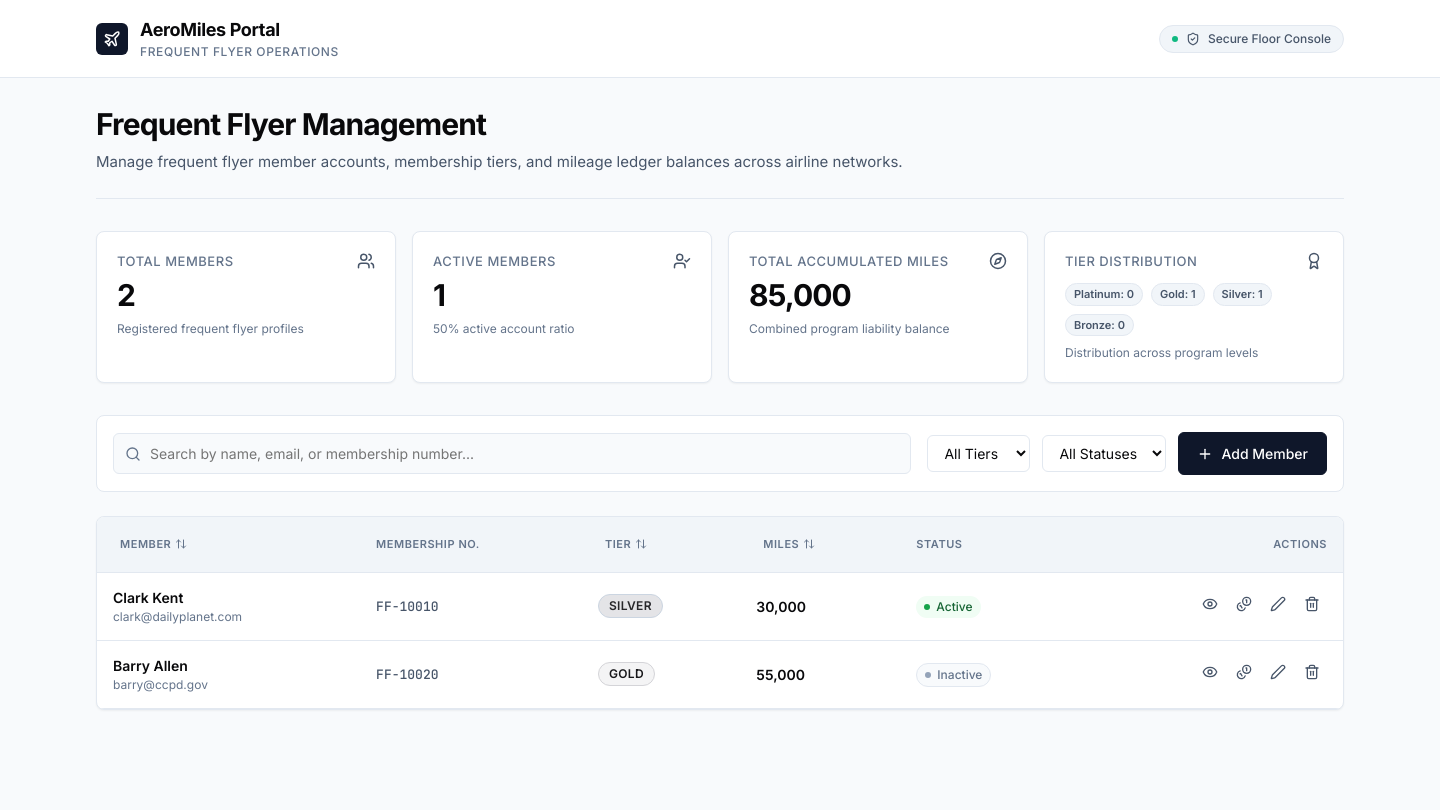
Test: Happy-Path Tests (TRD Section 9) › 7. Search and filtering filter members by query, tier, and status
Check: the text "Clark Kent" is shown, box [113, 588, 183, 606]
Check: the text "Barry Allen" is shown, box [113, 656, 188, 674]
Note: Search by name
In the search field with placeholder "Search by name, email, or membership number...": [512, 454] box [113, 433, 911, 474], type "Barry"
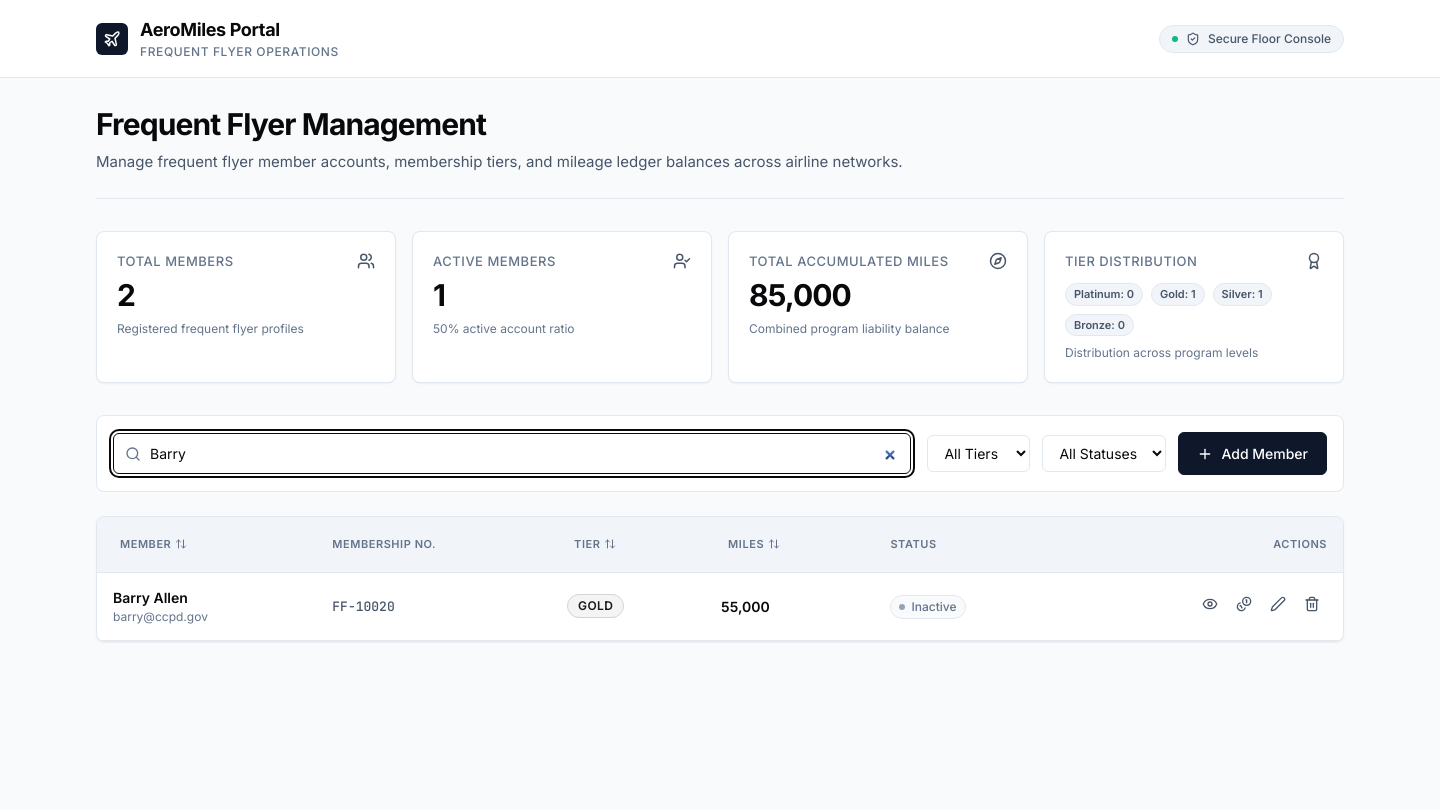
Check: the text "Barry Allen" is shown, box [113, 588, 188, 606]
Check: the text "Clark Kent" is gone
Note: Clear search
Clear the search field with placeholder "Search by name, email, or membership number...": [512, 454] box [113, 433, 911, 474]
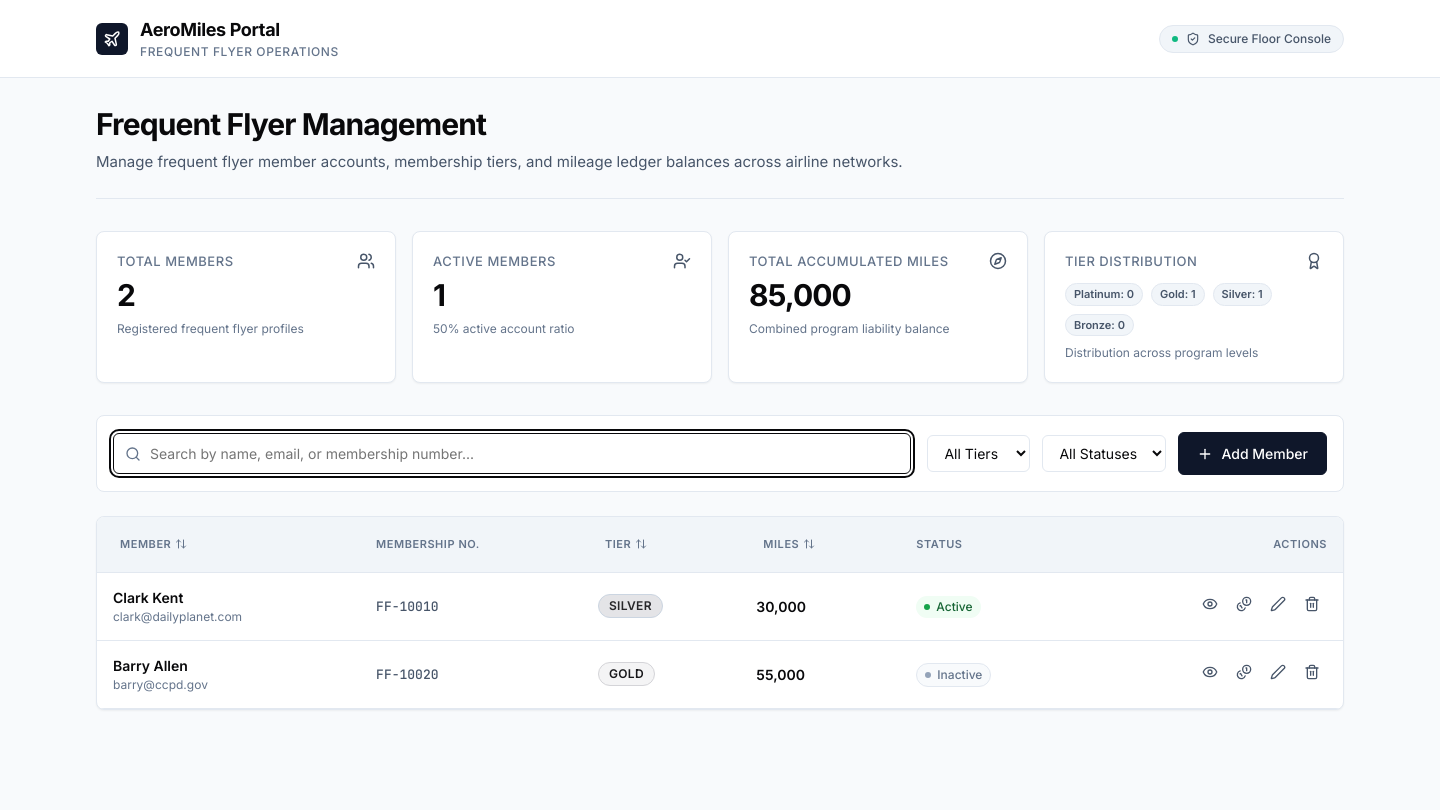
Check: the text "Clark Kent" is shown, box [113, 588, 183, 606]
Note: Filter by tier
Select "Silver" in the dropdown named "filter by tier": [979, 454] box [927, 435, 1030, 472]
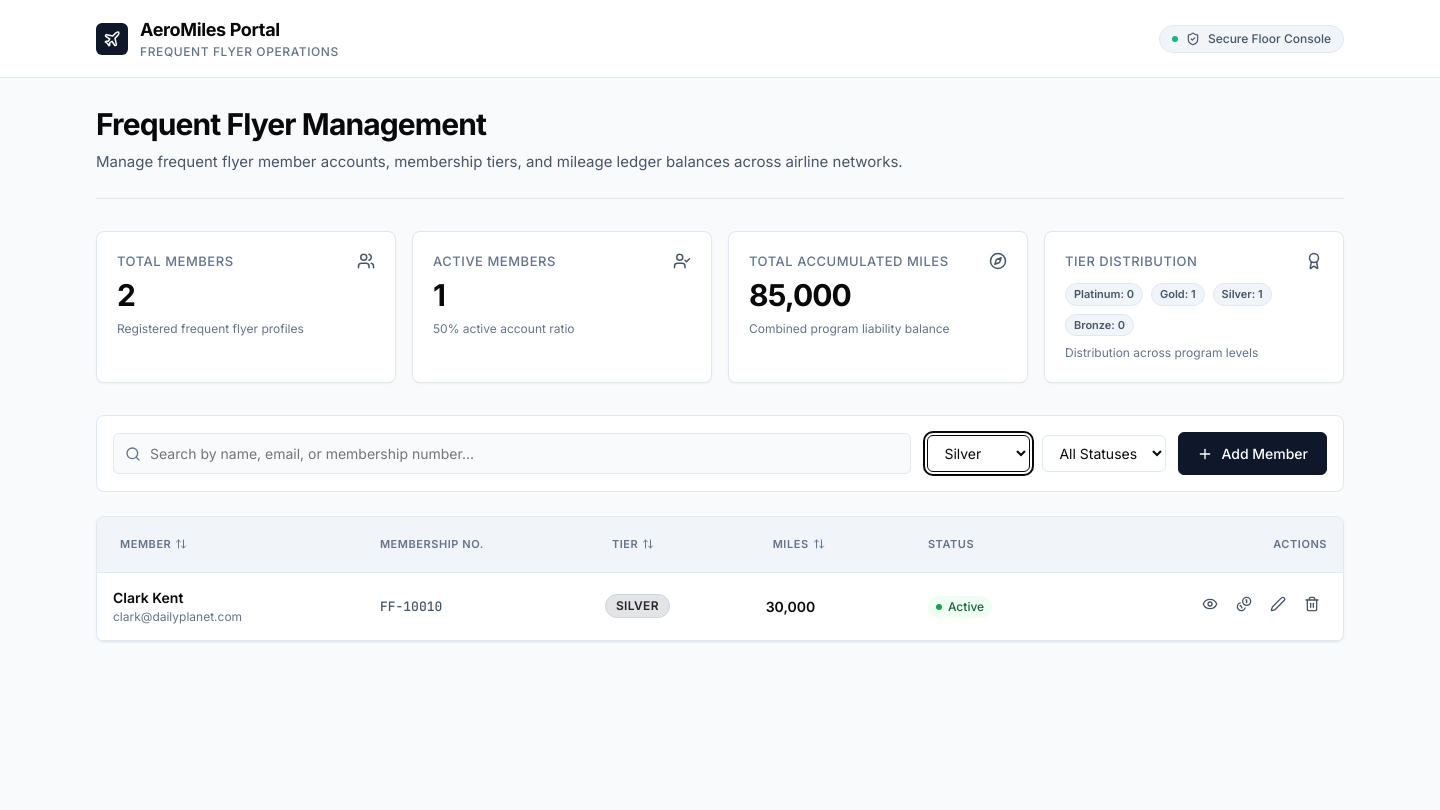
Check: the text "Clark Kent" is shown, box [113, 588, 183, 606]
Check: the text "Barry Allen" is gone
